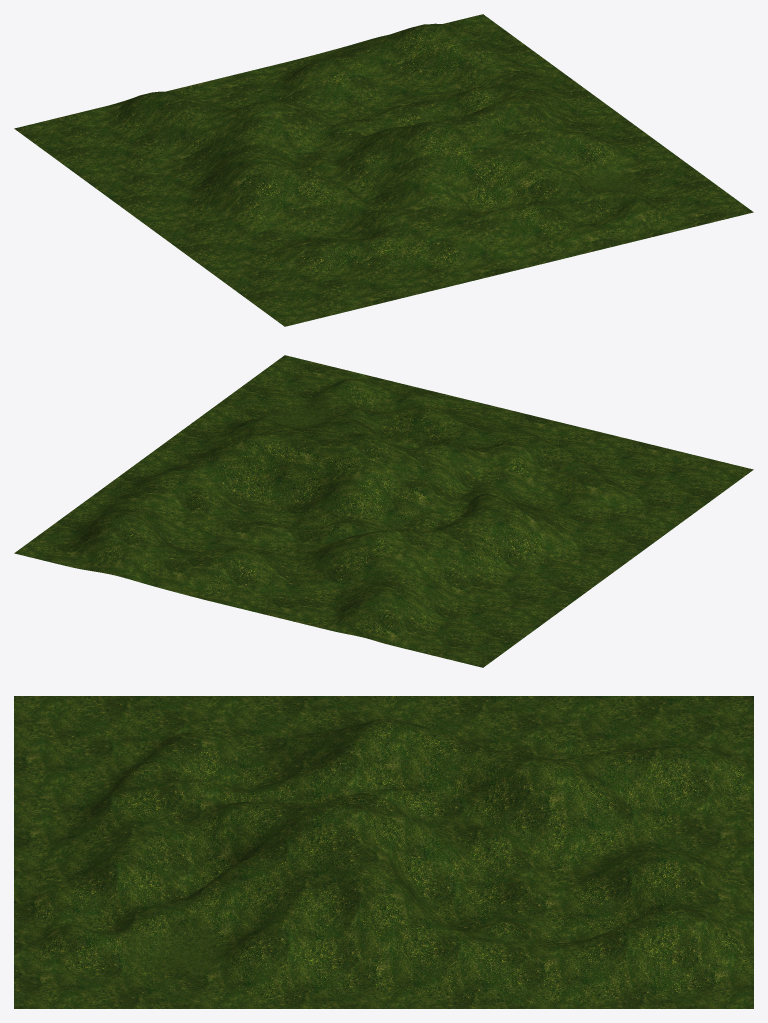
File: terrain.dae
3 renders of one model, top to bottom at view 1: azimuth 30°, elevation 25°; view 2: azimuth 150°, elevation 25°; view 3: azimuth 270°, elevation 25°, orthographic. The views are drawn at different scales.
Parts seen in each view (by area): view 1: Plane; view 2: Plane; view 3: Plane.
Boxes of the visible parts, x1,y1,x2,y2 form: Plane: [14, 14, 753, 326]; Plane: [14, 355, 753, 667]; Plane: [14, 696, 753, 1008].
Size of the model in its own units: 100 by 100 by 10.
1 material, 1 textured.
